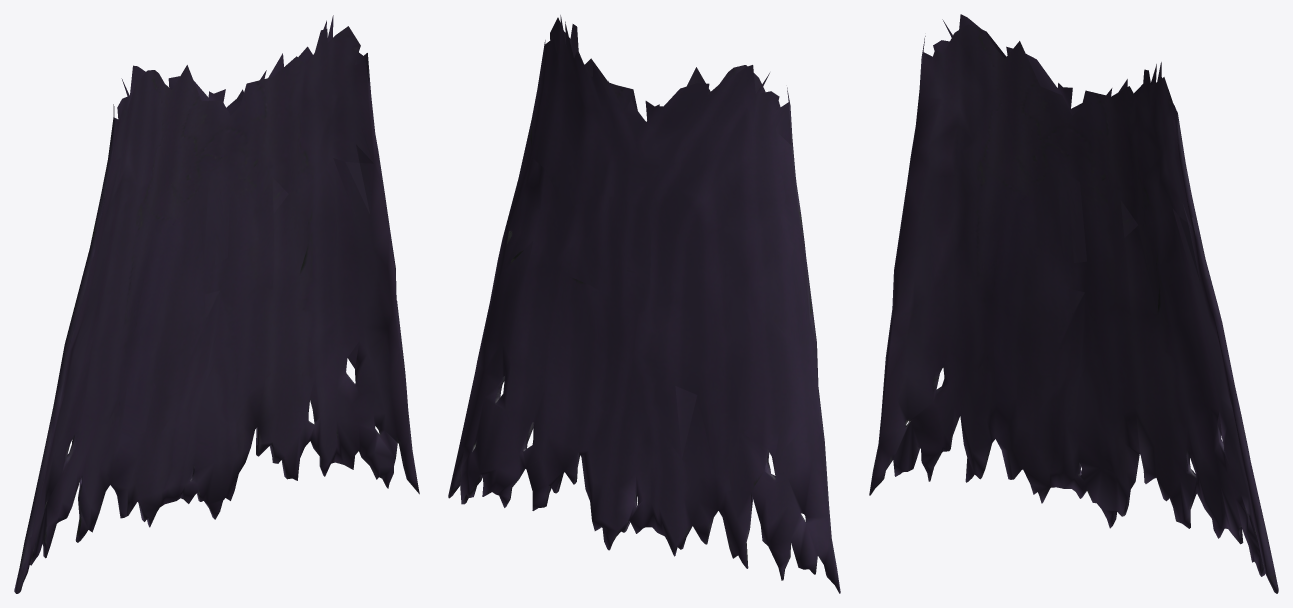
File: knight_cape.glb
3 renders of one model, left to right at view 1: azimuth 30°, elevation 25°; view 2: azimuth 150°, elevation 25°; view 3: azimuth 330°, elevation 25°, orthographic. The views are drawn at different scales.
Parts seen in each view (by area): view 1: Knight_cape; view 2: Knight_cape; view 3: Knight_cape.
Part boxes in pixels (x1,y1,x2,y2): Knight_cape: [14, 15, 419, 593]; Knight_cape: [448, 15, 840, 593]; Knight_cape: [869, 14, 1278, 593].
Size of the model in its own units: 1.06 by 1.29 by 0.2066.
Materials: 1 (1 with a texture image).
